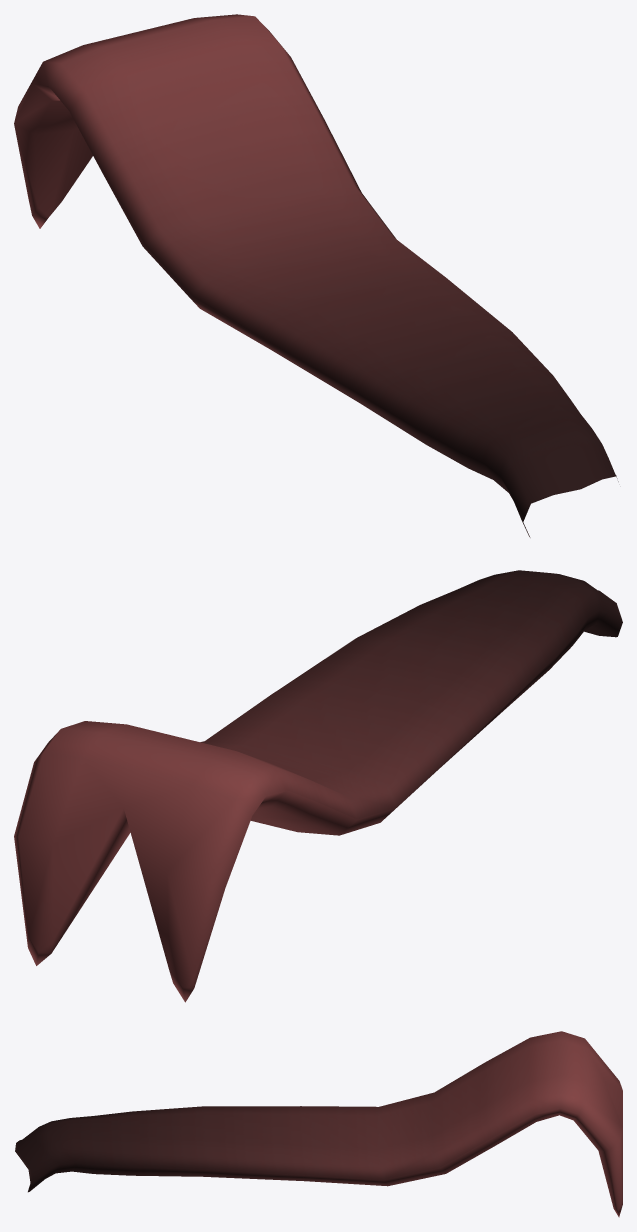
The model's file is forked.glb.
The picture shows the model from 3 angles, top to bottom: view 1: azimuth 30°, elevation 25°; view 2: azimuth 150°, elevation 25°; view 3: azimuth 270°, elevation 25°; orthographic projection. The views are drawn at different scales.
Parts seen in each view (by area): view 1: cc_forked3; view 2: cc_forked3; view 3: cc_forked3.
Part boxes in pixels (left/top/right/bottom): cc_forked3: left=14, top=14, right=618, bottom=537; cc_forked3: left=14, top=570, right=622, bottom=1002; cc_forked3: left=15, top=1031, right=622, bottom=1217.
Size of the model in its own units: 0.0461 by 0.0417 by 0.1698.
Materials: 1 (1 with a texture image).
